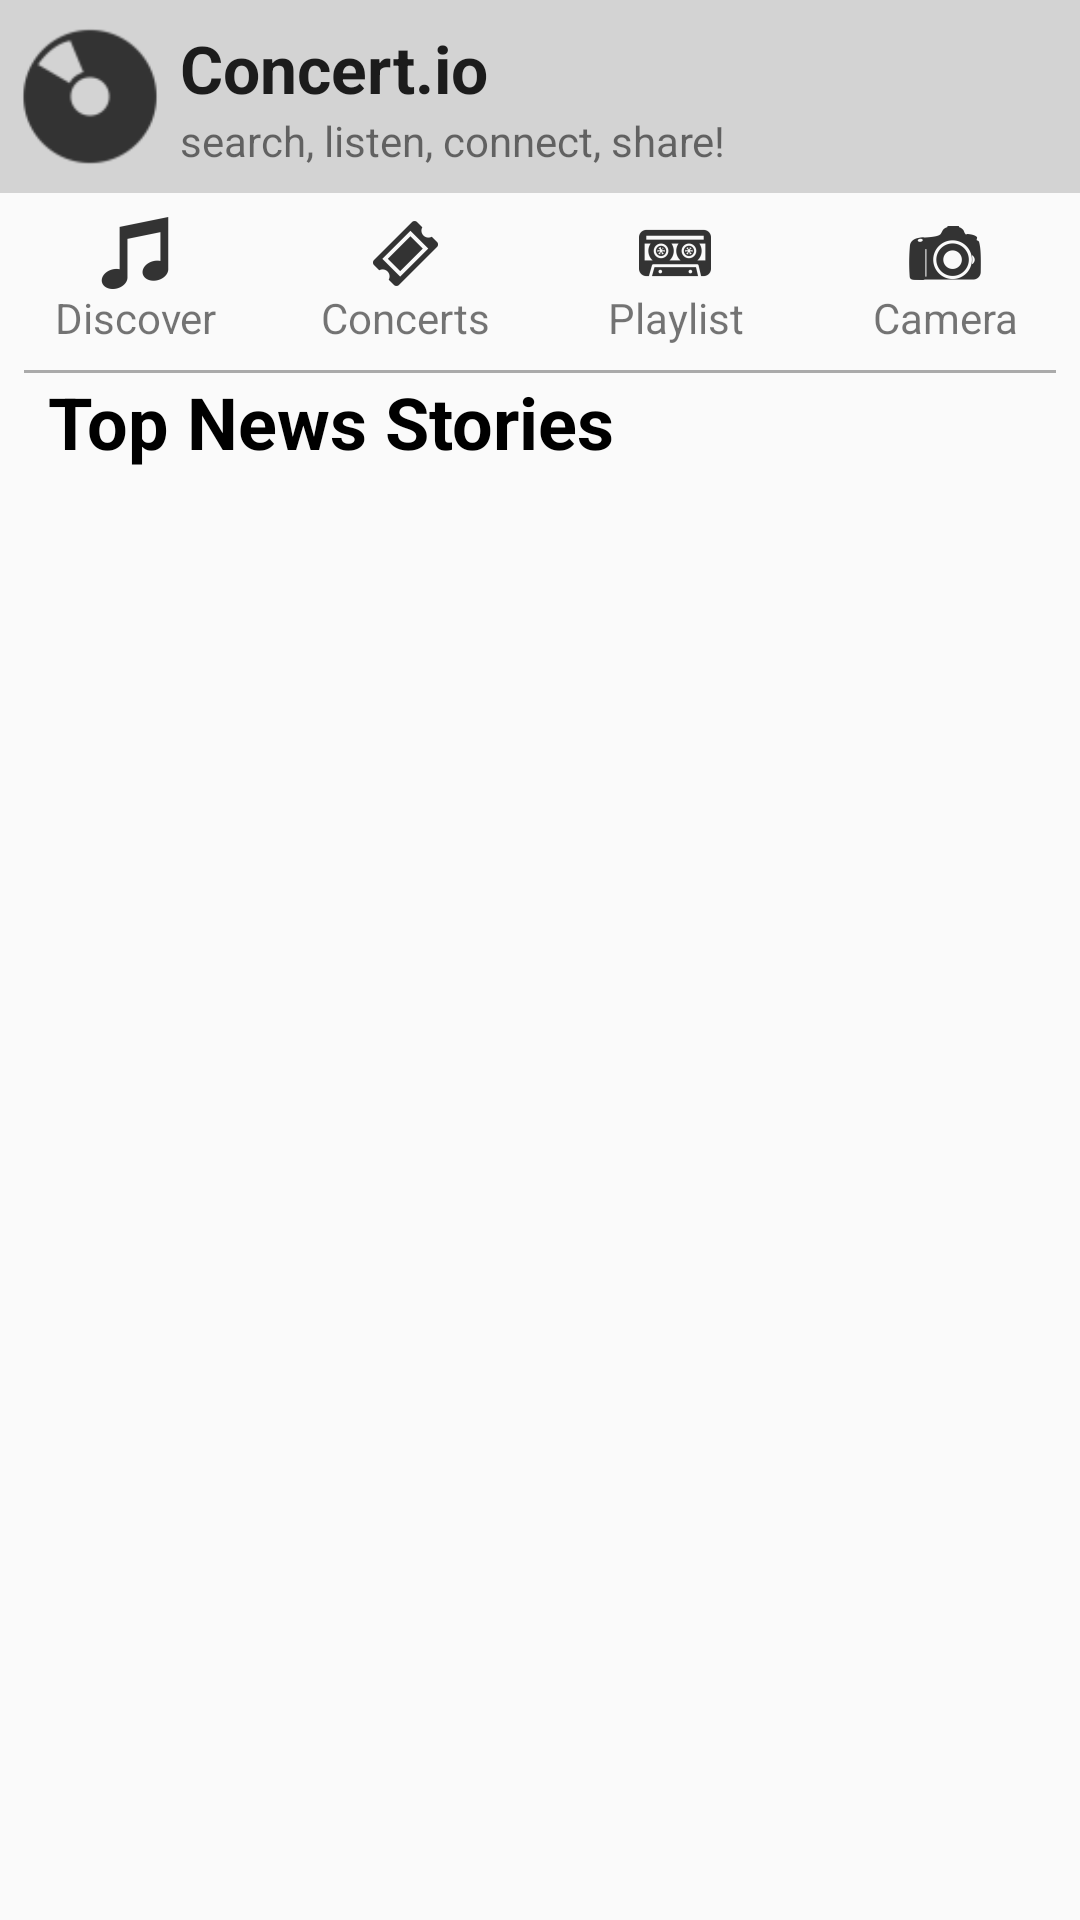

Icon bounding boxes for this 1080px x 1920px phone screenshot, format [left=x1, top=y1, right=x2, bottom=y2]:
cassette: [left=639, top=230, right=711, bottom=276]
note: [left=101, top=217, right=169, bottom=289]
record: [left=23, top=29, right=157, bottom=164]
ticket: [left=373, top=221, right=438, bottom=286]
